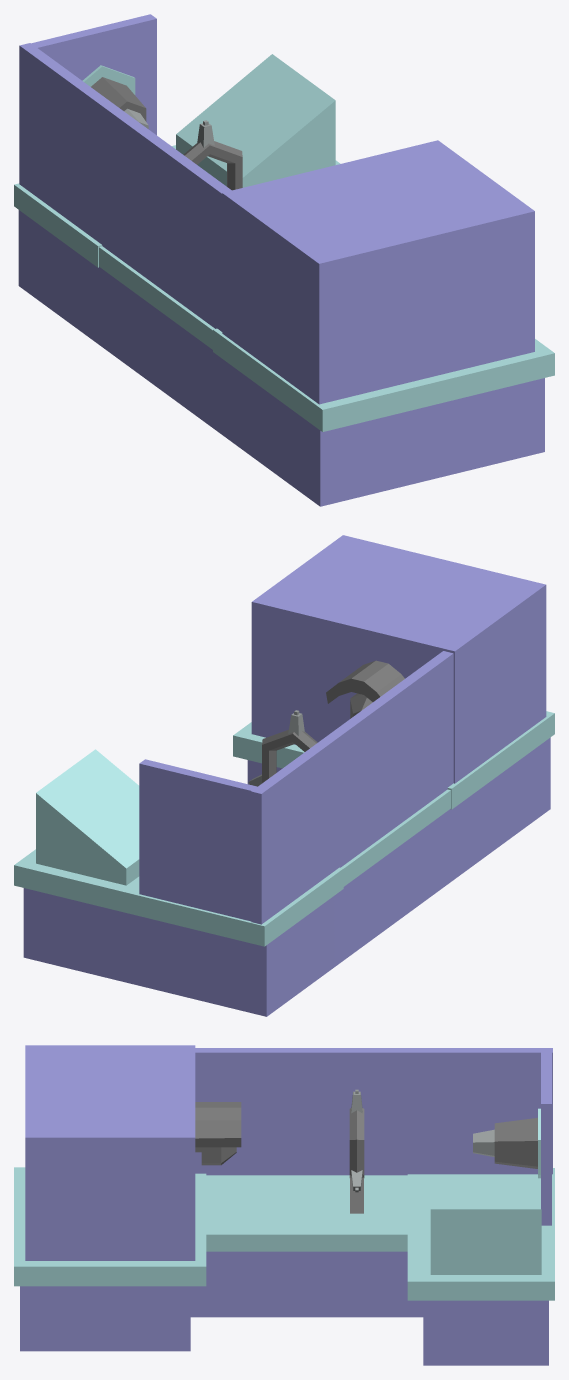
Rendered from Maquina 2.fbx.
3 views of the same model, one above another, from view 1: azimuth 30°, elevation 25°; view 2: azimuth 150°, elevation 25°; view 3: azimuth 270°, elevation 25° (orthographic). The views are drawn at different scales.
Parts seen in each view (by area): view 1: Cube.001; view 2: Cube.001; view 3: Cube.001.
Boxes of the visible parts, x1,y1,x2,y2 form: Cube.001: (14,14,554,506); Cube.001: (14,535,554,1016); Cube.001: (14,1045,554,1365).
Size of the model in its own units: 253 by 218 by 508.
